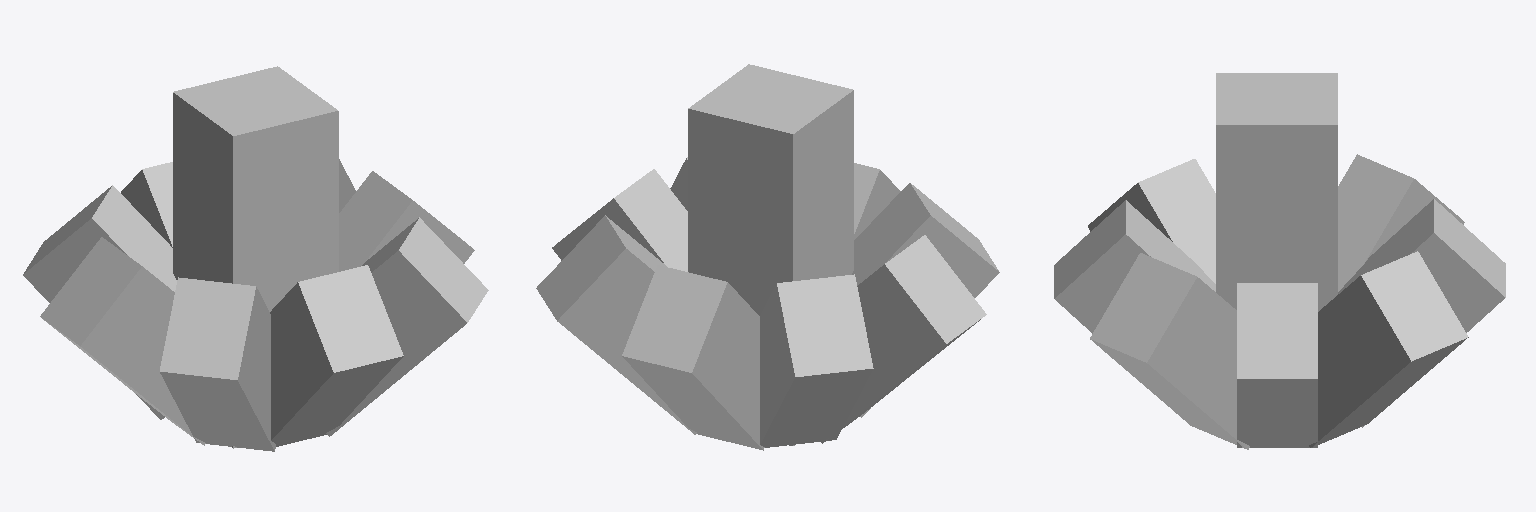
The model's file is awakening_crystal_-_converted.obj.
The picture shows the model from 3 angles: view 1: azimuth 30°, elevation 25°; view 2: azimuth 150°, elevation 25°; view 3: azimuth 270°, elevation 25°; orthographic projection.
Parts seen in each view (by area): view 1: cube; view 2: cube; view 3: cube.
Boxes of the visible parts, box(x1,y1,x2,y2) form: cube: box(23, 66, 488, 451); cube: box(536, 64, 999, 450); cube: box(1054, 73, 1505, 449).
Bounding box in the file's own units: 1.41 × 1.06 × 1.39.